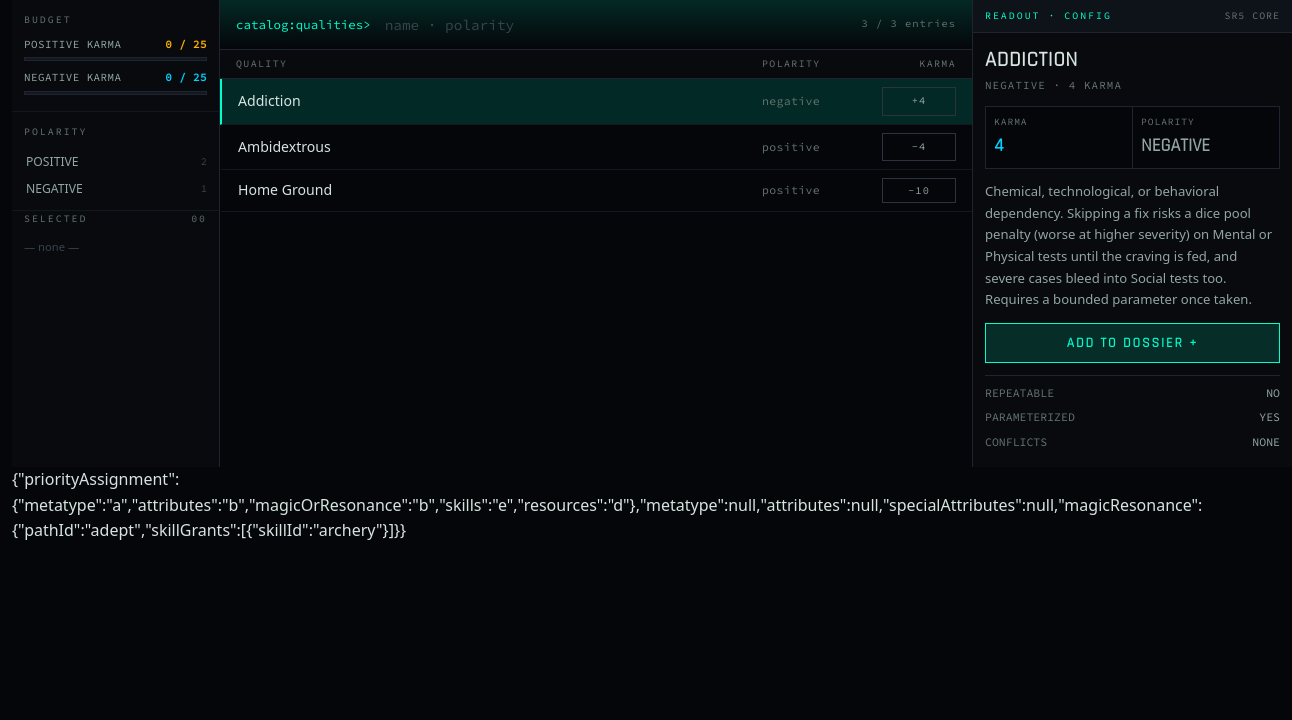
Test case: reported character creation issues › filters qualities by search and polarity together
The image size is (1292, 720).
Click the button with aria-label "POSITIVE (2)" at (116, 161), box 12,148 -> 219,174
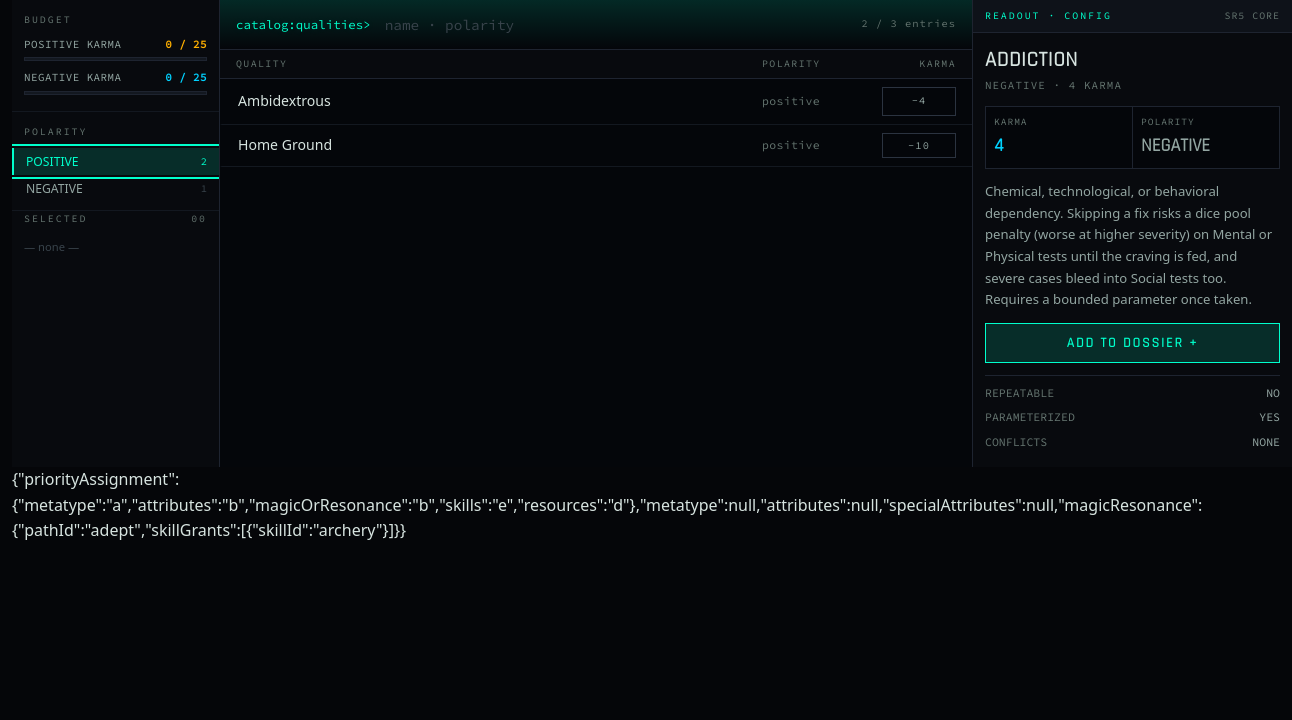
Expected: the checkbox named "Ambidextrous" is shown, 882,87 -> 956,116
Type "home" into the search field named "Search qualities" at (616, 24), box 383,14 -> 849,34
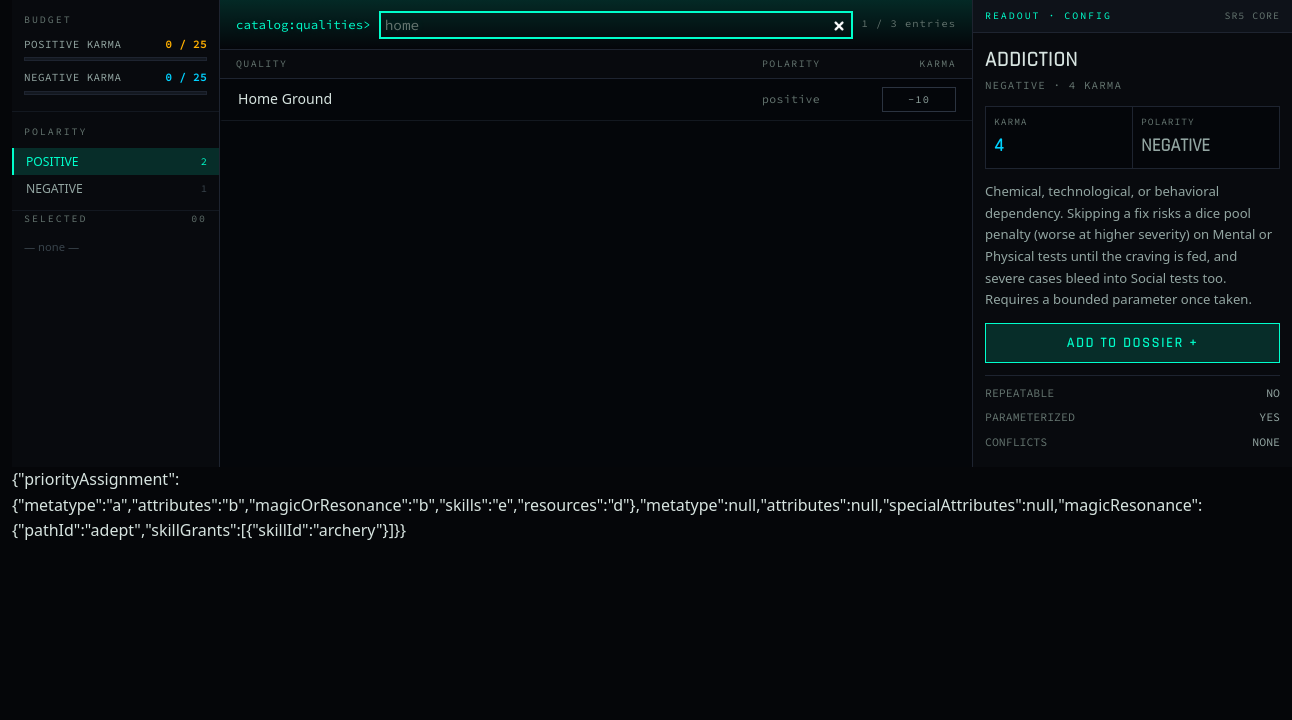
Expected: the button named "Add Home Ground" is shown, 882,87 -> 956,112
Expected: the button "Ambidextrous" is gone
